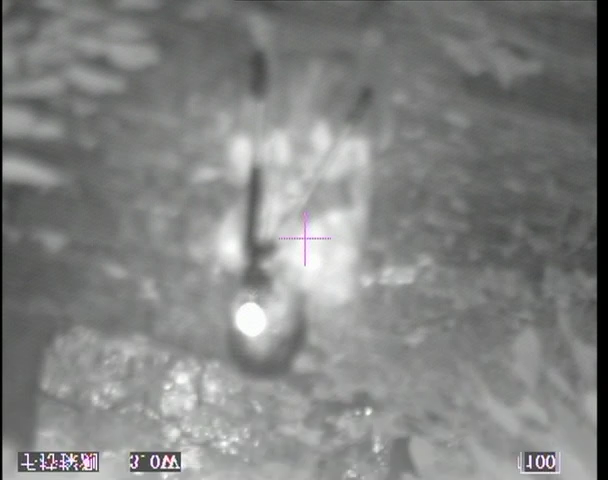my: (235, 302, 268, 335)
